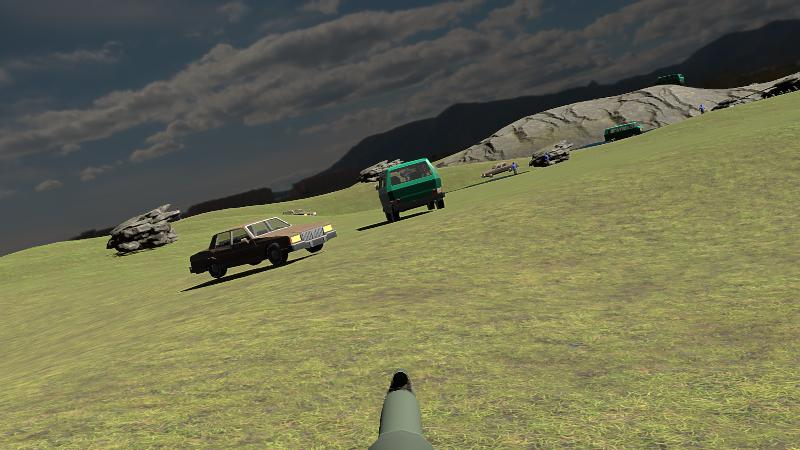car: (189, 217, 337, 279), (377, 158, 445, 222), (481, 162, 519, 178)
